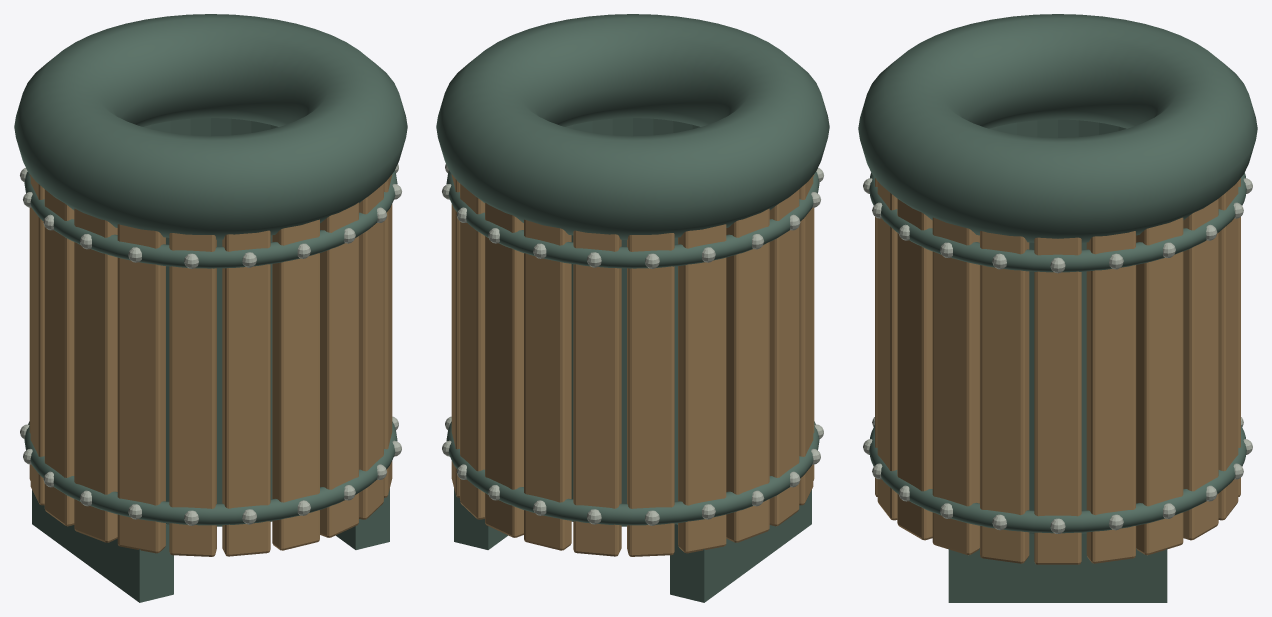
The model's file is detailed_waste_bin.glb.
3 views of the same model, side by side, from view 1: azimuth 30°, elevation 25°; view 2: azimuth 150°, elevation 25°; view 3: azimuth 270°, elevation 25° (orthographic).
Parts seen in each view (by area): view 1: Detailed waste bin combined; view 2: Detailed waste bin combined; view 3: Detailed waste bin combined.
Part boxes in pixels (bbox=[...]): Detailed waste bin combined: bbox=[14, 14, 407, 602]; Detailed waste bin combined: bbox=[436, 14, 829, 602]; Detailed waste bin combined: bbox=[858, 14, 1257, 602].
Size of the model in its own units: 0.694 by 0.882 by 0.694.
